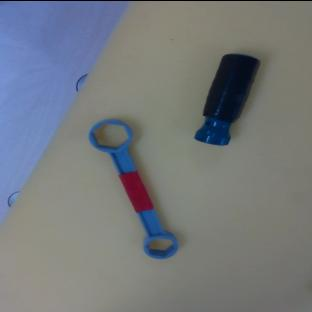part_2_bad: (191, 47, 262, 150)
part_3_good: (84, 111, 187, 266)
